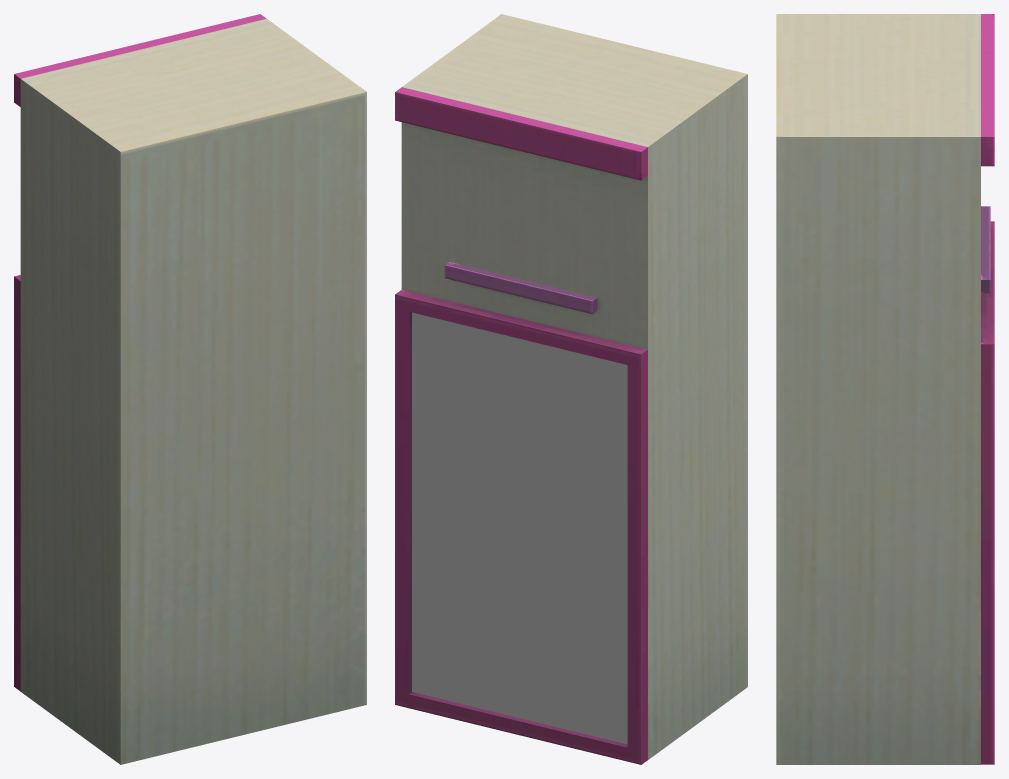
File: furni_0200518_01.FBX
3 views of the same model, side by side, from view 1: azimuth 30°, elevation 25°; view 2: azimuth 150°, elevation 25°; view 3: azimuth 270°, elevation 25° (orthographic). The views are drawn at different scales.
Visible parts, largest first — view 1: furni_0200518_01; view 2: furni_0200518_01; view 3: furni_0200518_01.
Boxes of the visible parts, x1,y1,x2,y2 form: furni_0200518_01: (14,14,366,764); furni_0200518_01: (395,14,747,764); furni_0200518_01: (776,14,994,764).
Bounding box in the file's own units: 80.03 × 190 × 59.95.
